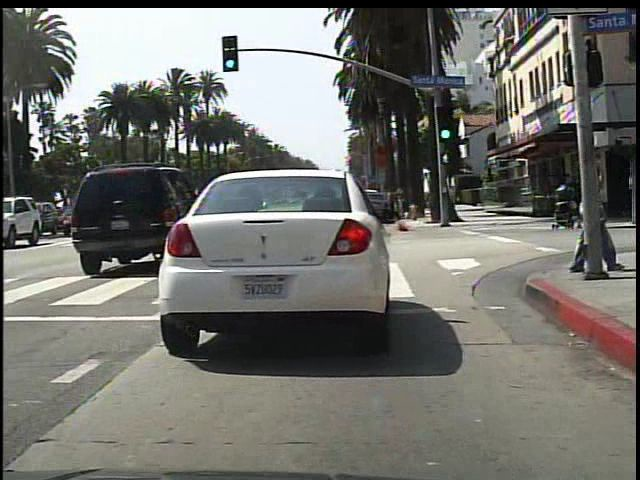person: (561, 140, 608, 276)
